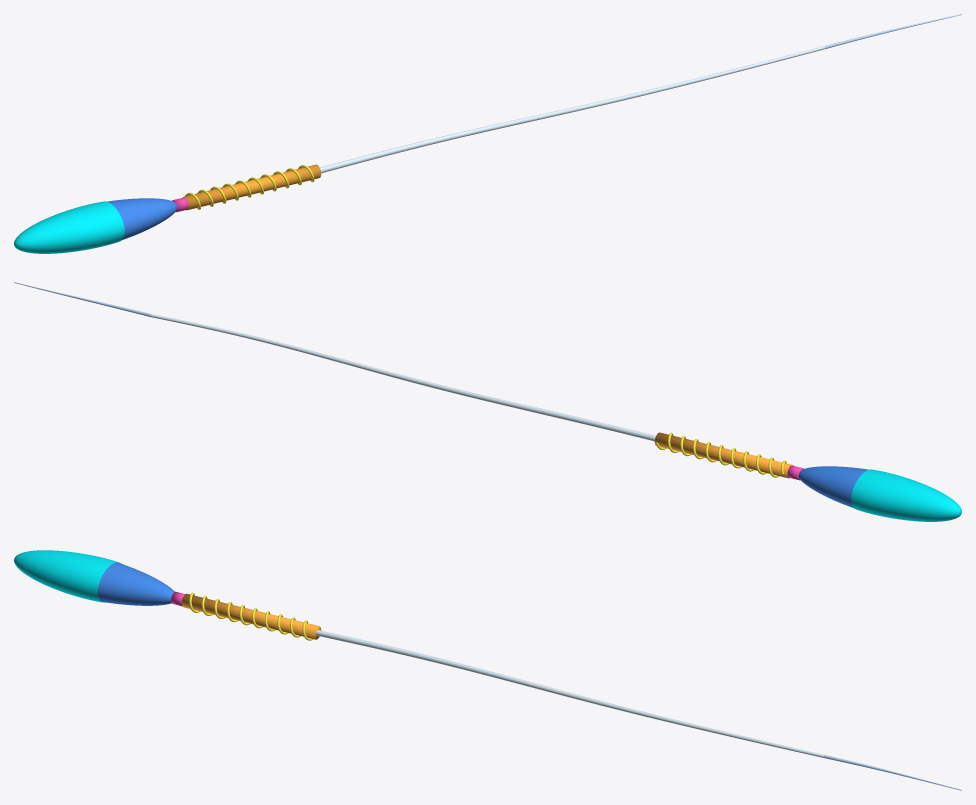
Rendered from 09_Cabeza_fusiforme.glb.
The picture shows the model from 3 angles, top to bottom: view 1: azimuth 30°, elevation 25°; view 2: azimuth 150°, elevation 25°; view 3: azimuth 330°, elevation 25°; orthographic projection.
Visible parts, largest first — view 1: Cubierta_acrosomal_fusiforme, Cola_pieza_principal.001, Cabeza_nucleo_fusiforme, Pieza_intermedia.001, Helice_mitocondrial_didactica.001; view 2: Cubierta_acrosomal_fusiforme, Cola_pieza_principal.001, Pieza_intermedia.001, Cabeza_nucleo_fusiforme, Helice_mitocondrial_didactica.001; view 3: Cubierta_acrosomal_fusiforme, Cola_pieza_principal.001, Cabeza_nucleo_fusiforme, Pieza_intermedia.001, Helice_mitocondrial_didactica.001.
Part boxes in pixels (x1,y1,x2,y2): Cubierta_acrosomal_fusiforme: (14,201,124,253); Cola_pieza_principal.001: (320,46,824,173); Cabeza_nucleo_fusiforme: (107,198,177,239); Pieza_intermedia.001: (183,164,321,210); Helice_mitocondrial_didactica.001: (184,165,314,209); Cubierta_acrosomal_fusiforme: (851,469,961,521); Cola_pieza_principal.001: (151,314,655,441); Pieza_intermedia.001: (654,432,792,478); Cabeza_nucleo_fusiforme: (798,466,868,507); Helice_mitocondrial_didactica.001: (656,432,786,477); Cubierta_acrosomal_fusiforme: (14,550,120,602); Cola_pieza_principal.001: (316,630,823,757); Cabeza_nucleo_fusiforme: (98,562,174,605); Pieza_intermedia.001: (181,593,321,639); Helice_mitocondrial_didactica.001: (189,592,313,640).
Size of the model in its own units: 65.42 by 2.4 by 3.35.
